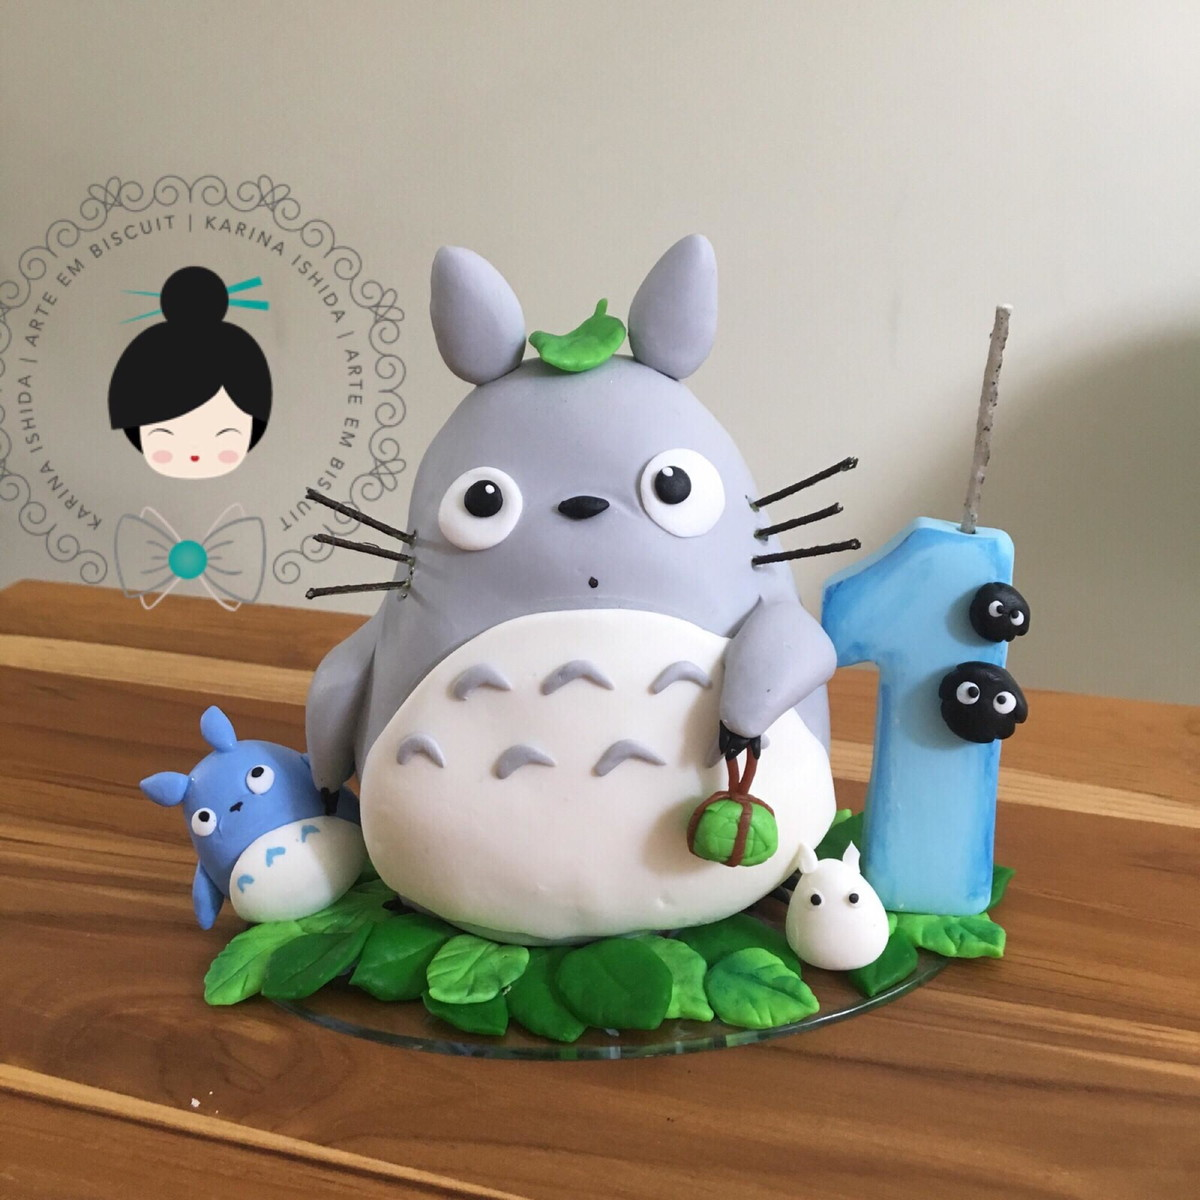Totoro: (291, 225, 851, 936)
